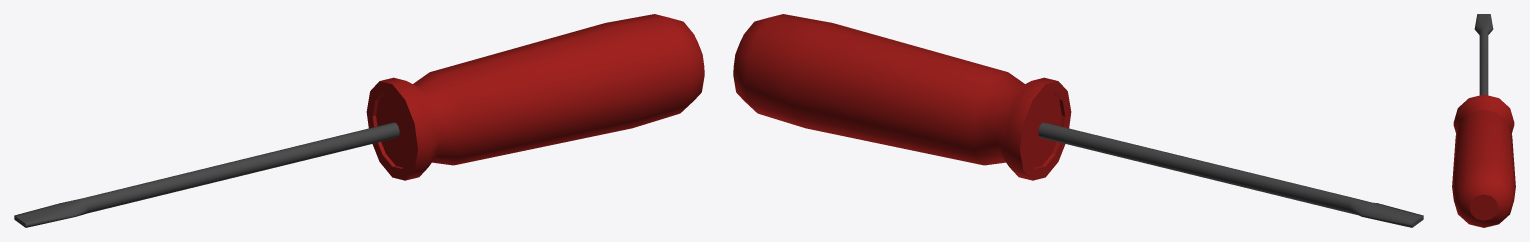
File: Screwdriver.fbx
The picture shows the model from 3 angles, left to right: view 1: azimuth 30°, elevation 25°; view 2: azimuth 150°, elevation 25°; view 3: azimuth 270°, elevation 25°; orthographic projection. The views are drawn at different scales.
Parts seen in each view (by area): view 1: Cylinder001, Cylinder002; view 2: Cylinder001, Cylinder002; view 3: Cylinder001, Cylinder002.
Part boxes in pixels (<box>): Cylinder001: <box>366,14,704,180</box>; Cylinder002: <box>14,122,399,227</box>; Cylinder001: <box>733,14,1071,180</box>; Cylinder002: <box>1038,122,1423,227</box>; Cylinder001: <box>1452,94,1515,227</box>; Cylinder002: <box>1474,14,1493,95</box>.
Bounding box in the file's own units: 931 × 131 × 131.
